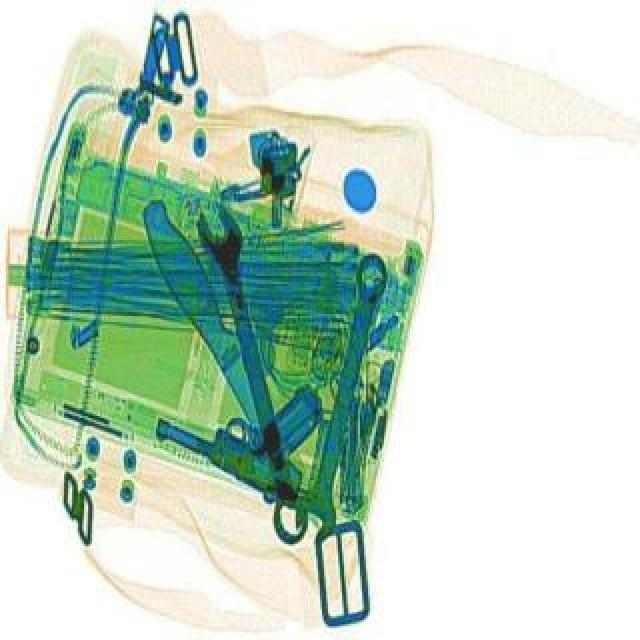gun: (146, 336, 350, 504)
knife: (126, 190, 318, 492)
scissors: (190, 202, 318, 544), (290, 246, 394, 542)
